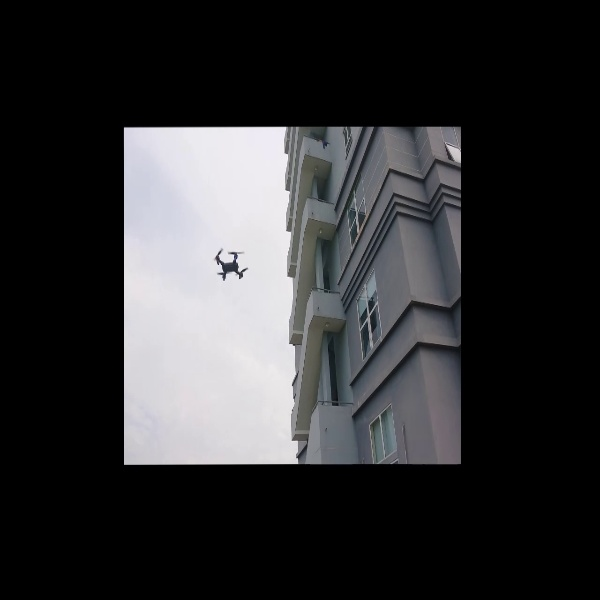drone: (207, 240, 254, 289)
